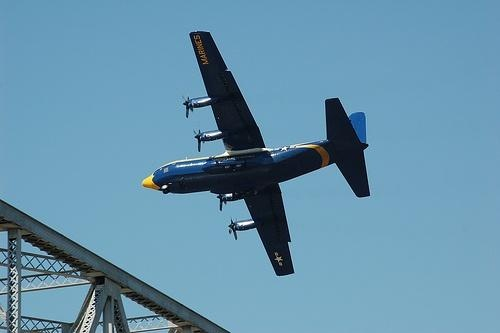aeroplane: (143, 32, 371, 277)
